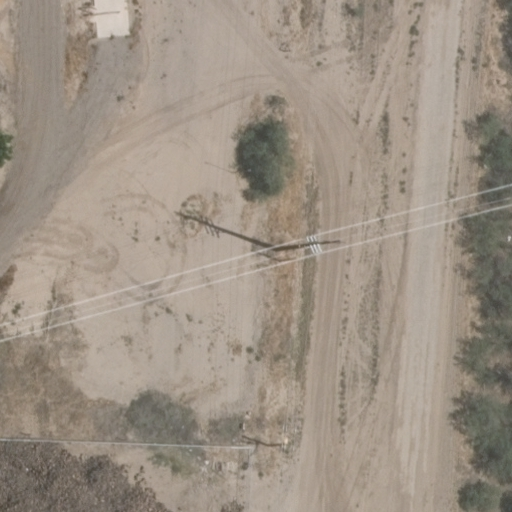DT: (264, 228, 351, 269)
